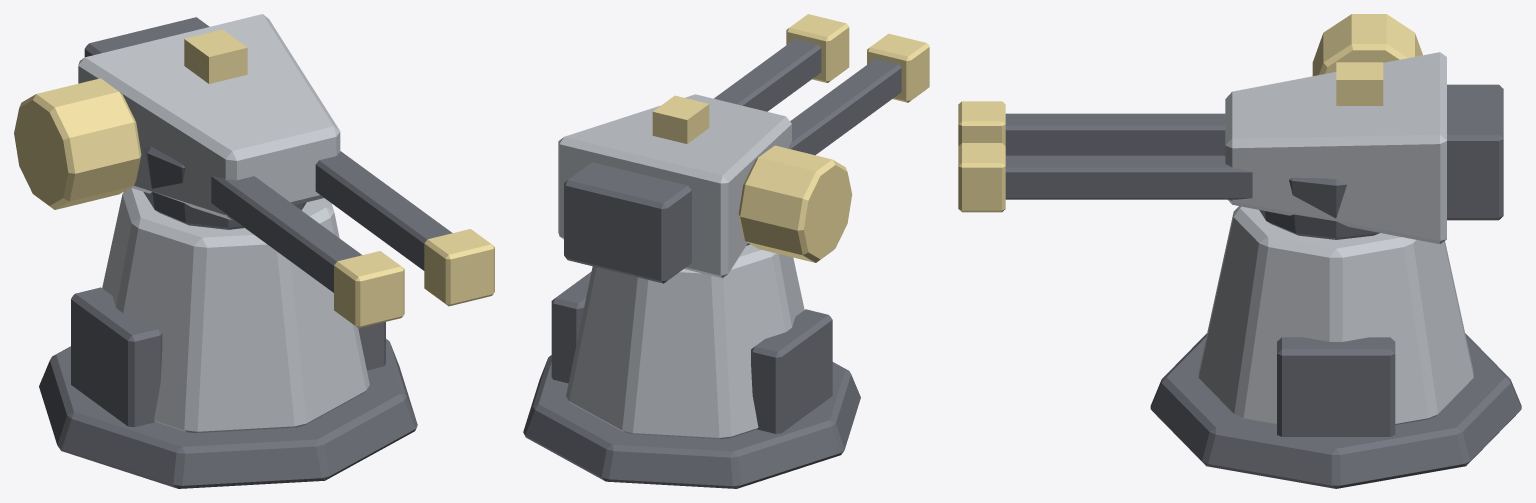
The model's file is arc_cannon.glb.
3 views of the same model, side by side, from view 1: azimuth 30°, elevation 25°; view 2: azimuth 150°, elevation 25°; view 3: azimuth 270°, elevation 25° (orthographic). The views are drawn at different scales.
Parts seen in each view (by area): view 1: Plinth, TurretHead, Base, Barrel, AmmoDrum, Strut, Muzzle, Collar, Sight, Counterweight; view 2: Plinth, Base, TurretHead, Counterweight, Strut, AmmoDrum, Barrel, Muzzle, Sight; view 3: Plinth, TurretHead, Base, Barrel, Strut, Counterweight, Muzzle, AmmoDrum, Collar, Sight.
Boxes of the visible parts, bbox=[...] form: Plinth: bbox=[102, 187, 369, 432]; TurretHead: bbox=[78, 14, 340, 220]; Base: bbox=[39, 339, 417, 488]; Barrel: bbox=[211, 151, 452, 292]; AmmoDrum: bbox=[14, 78, 141, 209]; Strut: bbox=[71, 287, 385, 427]; Muzzle: bbox=[334, 229, 494, 328]; Collar: bbox=[143, 147, 306, 229]; Sight: bbox=[184, 29, 247, 83]; Counterweight: bbox=[84, 17, 209, 57]; Plinth: bbox=[566, 244, 804, 439]; Base: bbox=[523, 355, 860, 488]; TurretHead: bbox=[558, 94, 791, 278]; Counterweight: bbox=[564, 162, 691, 283]; Strut: bbox=[551, 271, 832, 433]; AmmoDrum: bbox=[738, 145, 852, 262]; Barrel: bbox=[714, 39, 901, 155]; Muzzle: bbox=[786, 14, 929, 102]; Sight: bbox=[652, 95, 709, 143]; Plinth: bbox=[1198, 206, 1473, 424]; TurretHead: bbox=[1225, 52, 1446, 244]; Base: bbox=[1150, 333, 1521, 488]; Barrel: bbox=[1005, 113, 1252, 199]; Strut: bbox=[1277, 337, 1395, 436]; Counterweight: bbox=[1447, 84, 1503, 220]; Muzzle: bbox=[958, 101, 1005, 212]; AmmoDrum: bbox=[1312, 14, 1422, 75]; Collar: bbox=[1259, 177, 1379, 239]; Sight: bbox=[1336, 62, 1383, 105].
Size of the model in its own units: 1.58 by 1.59 by 2.39.
